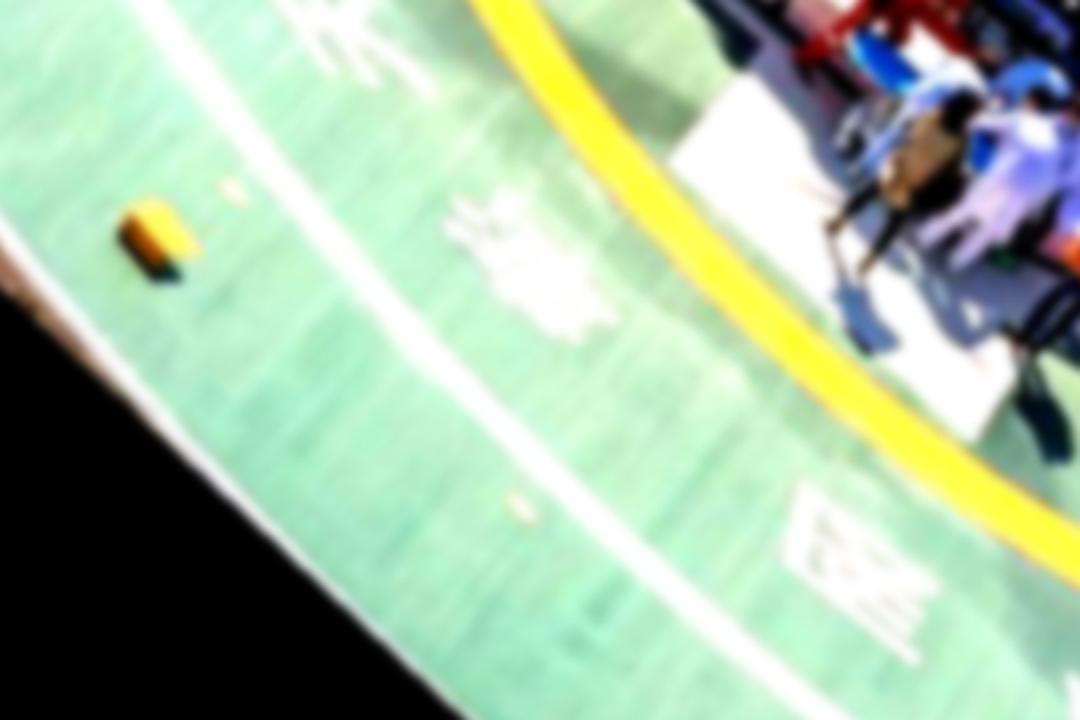Apron: (445, 1, 1080, 606)
